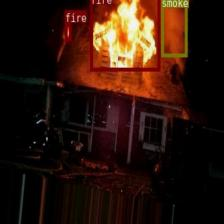fire: (90, 0, 160, 70), (64, 22, 71, 42)
smoke: (161, 0, 187, 56)
